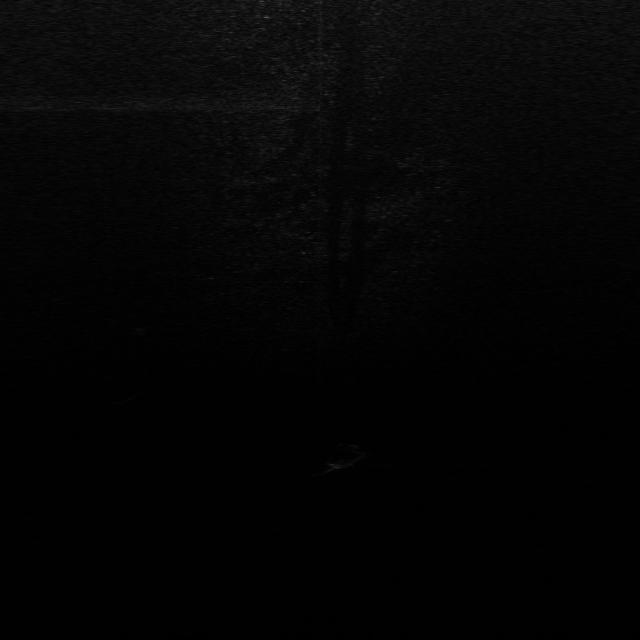tyre: (326, 446, 364, 468)
